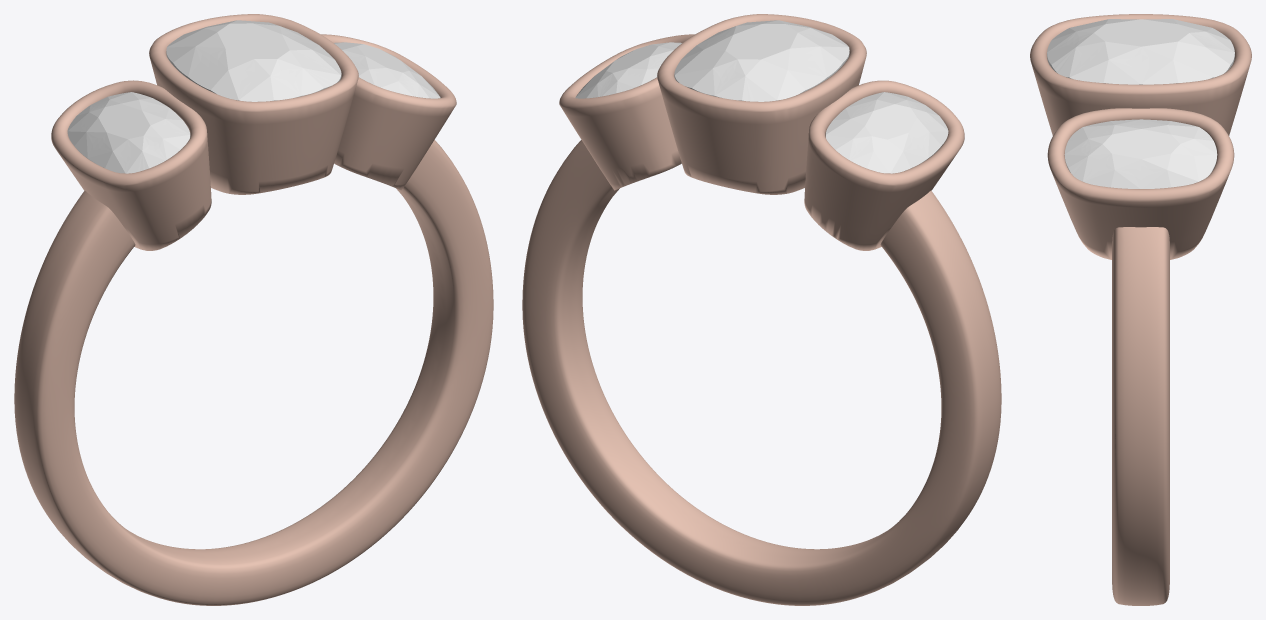
Rendered from diamond-cushion-rosegold-bezelset-straightband-3stone.glb.
3 renders of one model, left to right at view 1: azimuth 30°, elevation 25°; view 2: azimuth 150°, elevation 25°; view 3: azimuth 270°, elevation 25°, orthographic.
Visible parts, largest first — view 1: metal.002, stone.001, side.002, side.003; view 2: metal.002, stone.001, side.002, side.003; view 3: metal.002, stone.001, side.003.
Part boxes in pixels (left/top/right/bottom): metal.002: left=14, top=14, right=493, bottom=605; stone.001: left=166, top=20, right=341, bottom=101; side.002: left=67, top=92, right=190, bottom=173; side.003: left=334, top=42, right=440, bottom=98; metal.002: left=522, top=14, right=1001, bottom=605; stone.001: left=674, top=20, right=849, bottom=101; side.002: left=825, top=92, right=948, bottom=173; side.003: left=575, top=42, right=681, bottom=98; metal.002: left=1030, top=14, right=1251, bottom=605; stone.001: left=1047, top=19, right=1234, bottom=84; side.003: left=1064, top=119, right=1217, bottom=188.
Size of the model in its own units: 20.1 by 23.04 by 8.45.
